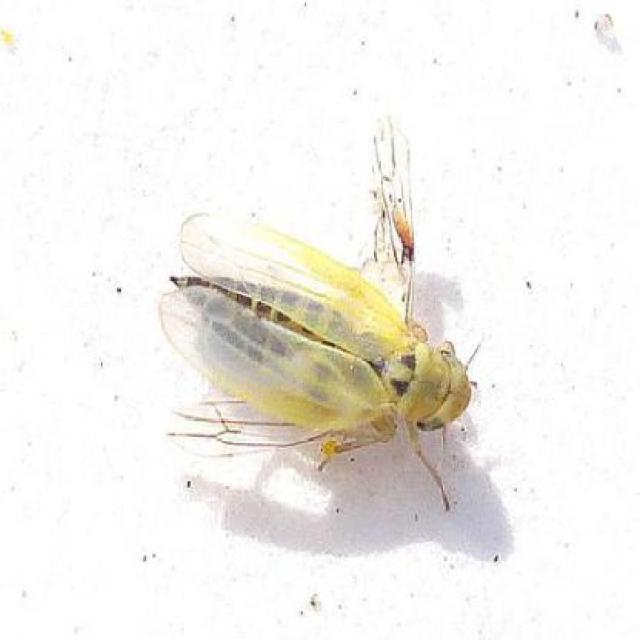green-leafhopper: (172, 180, 473, 480)
